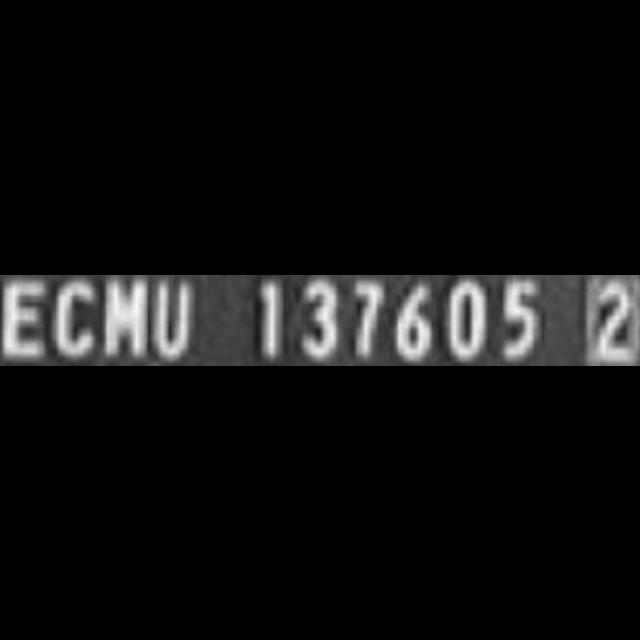0: (444, 274, 494, 366)
1: (258, 274, 290, 366)
2: (596, 276, 634, 364)
3: (298, 274, 339, 366)
5: (498, 274, 548, 366)
6: (392, 274, 438, 366)
7: (344, 274, 390, 364)
c: (52, 274, 102, 366)
e: (0, 274, 50, 366)
m: (100, 274, 154, 362)
u: (156, 274, 197, 366)
